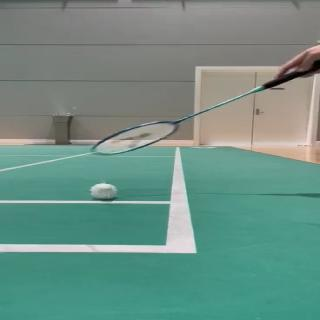Shuttle: (90, 183, 118, 200)
